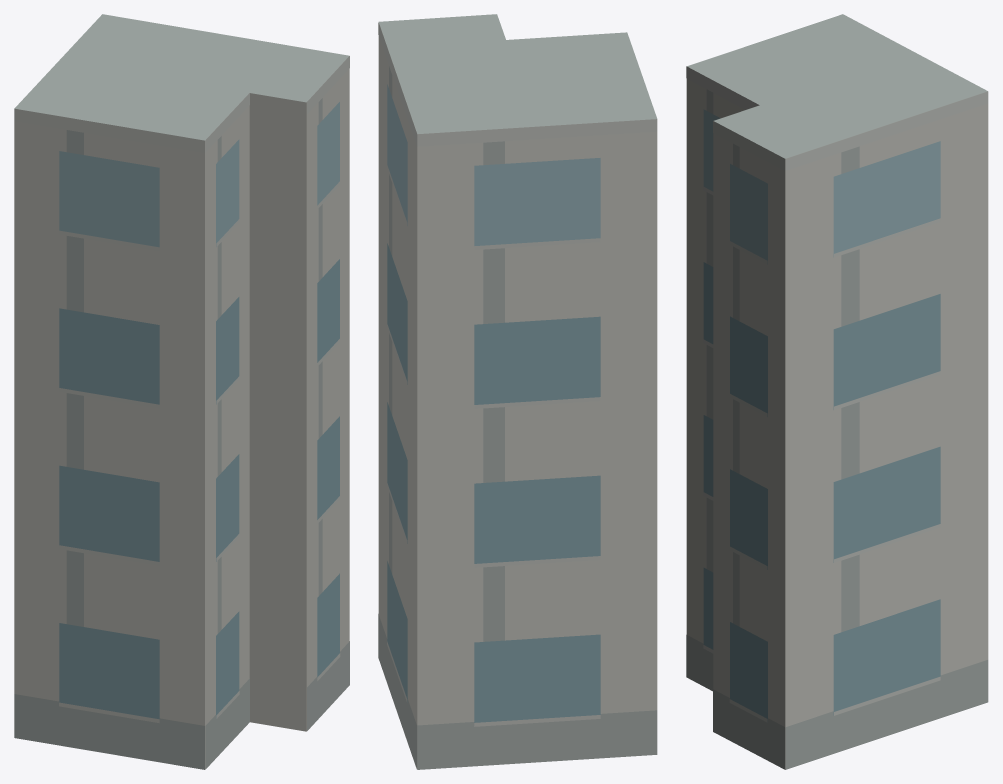
File: survey-upis-32783390.glb
3 renders of one model, left to right at view 1: azimuth 30°, elevation 25°; view 2: azimuth 150°, elevation 25°; view 3: azimuth 270°, elevation 25°, orthographic. The views are drawn at different scales.
Parts seen in each view (by area): view 1: survey-upis-32783390.tmp; view 2: survey-upis-32783390.tmp; view 3: survey-upis-32783390.tmp.
Boxes of the visible parts, x1=… form: survey-upis-32783390.tmp: x1=14, y1=14, x2=349, y2=769; survey-upis-32783390.tmp: x1=378, y1=14, x2=657, y2=769; survey-upis-32783390.tmp: x1=686, y1=14, x2=988, y2=769.
Size of the model in its own units: 6.21 by 12.2 by 5.47.
